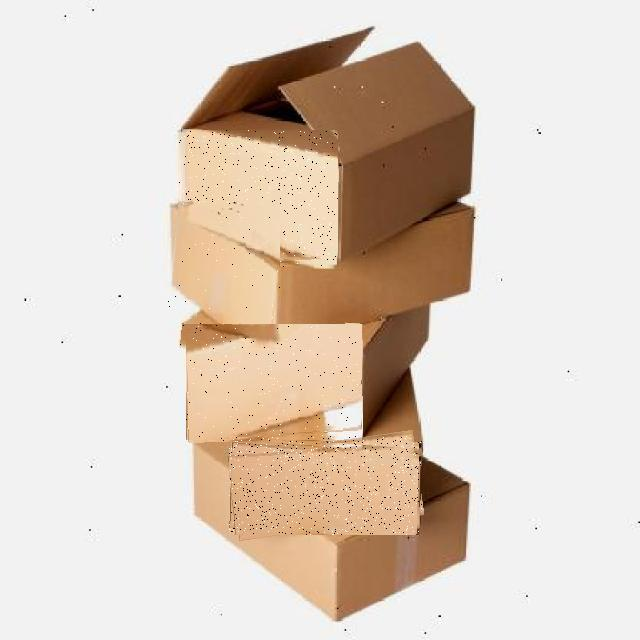BoxFace: (177, 130, 338, 267), (186, 324, 363, 442), (229, 436, 422, 535), (168, 204, 280, 353)
